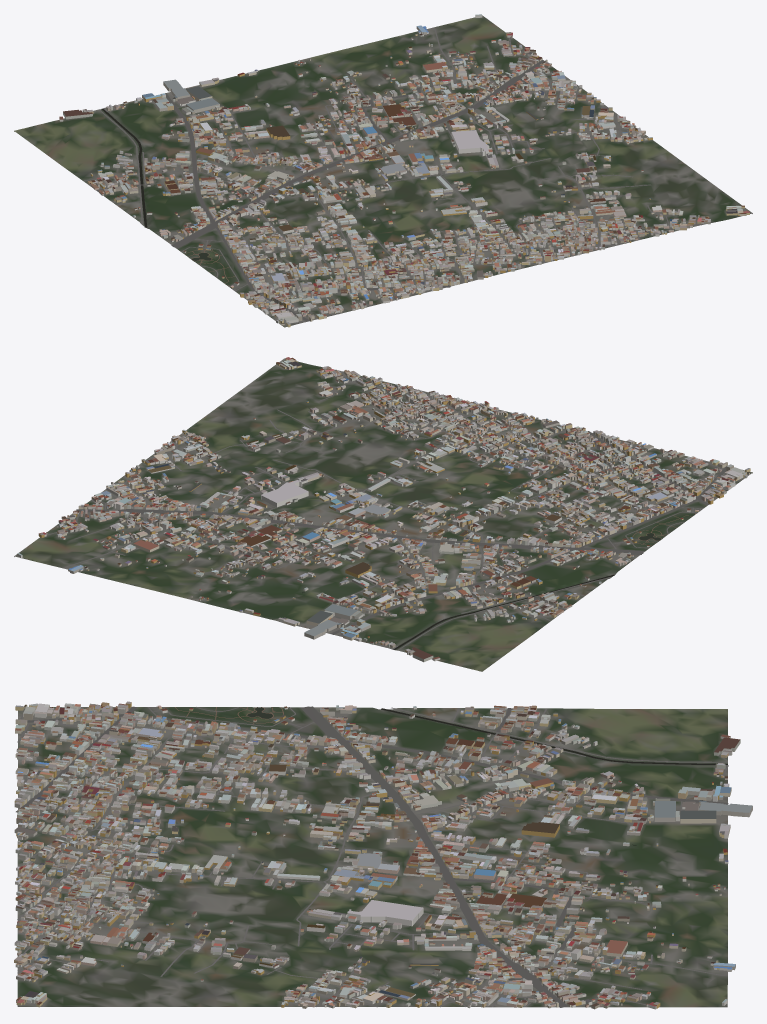
The picture shows the model from 3 angles, top to bottom: view 1: azimuth 30°, elevation 25°; view 2: azimuth 150°, elevation 25°; view 3: azimuth 270°, elevation 25°; orthographic projection. The views are drawn at different scales.
Parts seen in each view (by area): view 1: ground, buildings, roads; view 2: ground, buildings, roads; view 3: ground, buildings, roads, water.
Part boxes in pixels (x1,y1,x2,y2): ground: [14, 15, 752, 327]; buildings: [59, 14, 749, 327]; roads: [84, 27, 701, 324]; ground: [14, 358, 752, 671]; buildings: [17, 357, 750, 662]; roads: [47, 369, 748, 650]; ground: [17, 707, 727, 1007]; buildings: [14, 701, 752, 1009]; roads: [16, 706, 728, 1007]; water: [247, 707, 727, 845].
Bounding box in the file's own units: 1419 × 26.15 × 1457.
